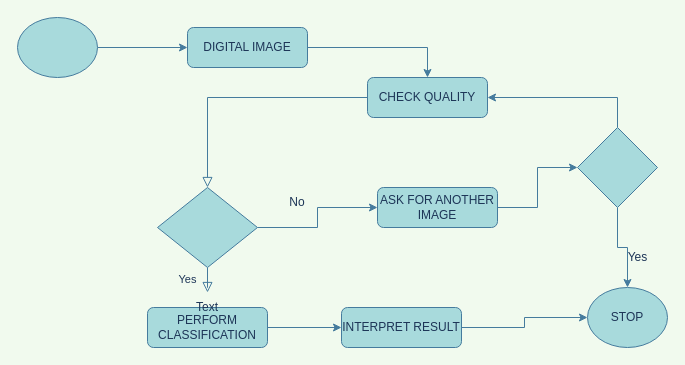
The diagram is 685 pixels wide and 365 high, and some of its shapes have lost their labels. Each missing label, with the box of its shape:
CANCEL?: (576, 126, 658, 208)
ok: (156, 186, 258, 268)
START: (16, 16, 98, 78)
